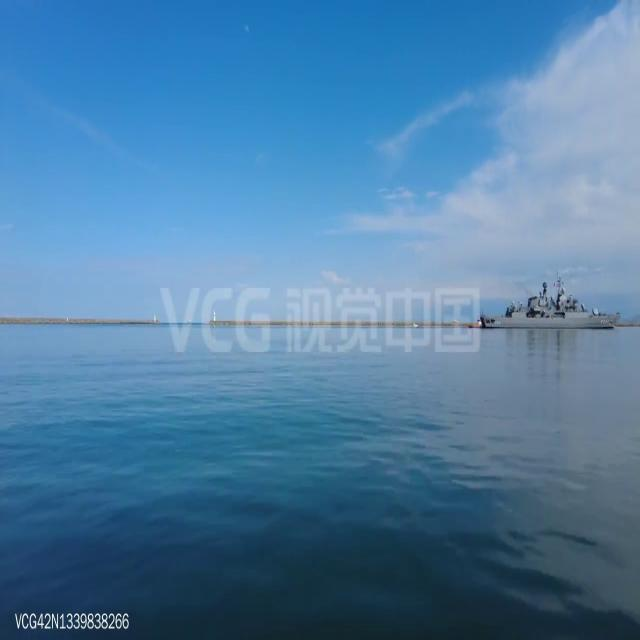navalvessels: (479, 276, 622, 328)
